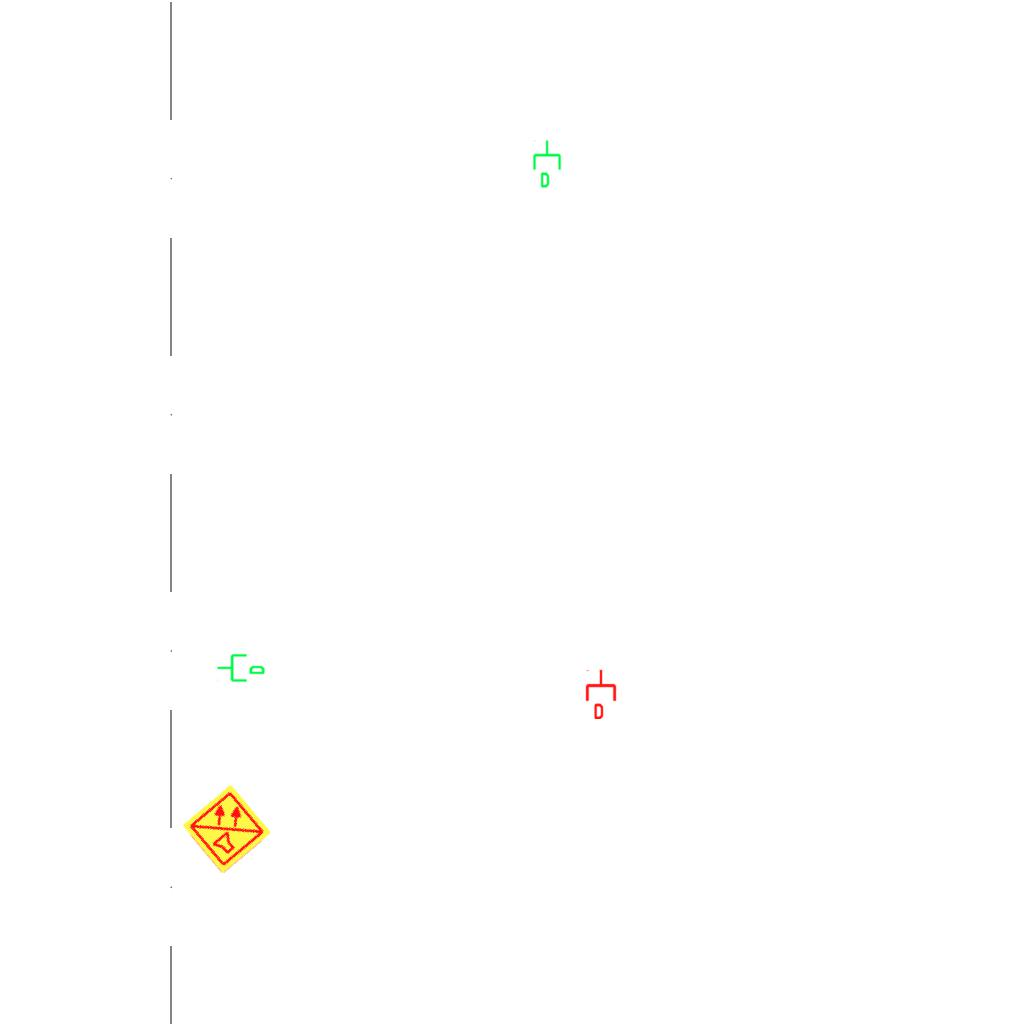Datenanschluss_einfach: (216, 650, 266, 684), (584, 669, 618, 719), (531, 139, 565, 189)
OKW_Multisensormelder_(Kombination_optischer_Rauch-Kahlenmonoxid_Waerme-Melder): (180, 782, 274, 876)
